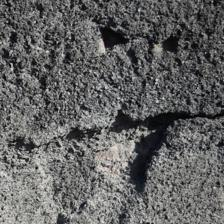Crack: (16, 99, 220, 158)
